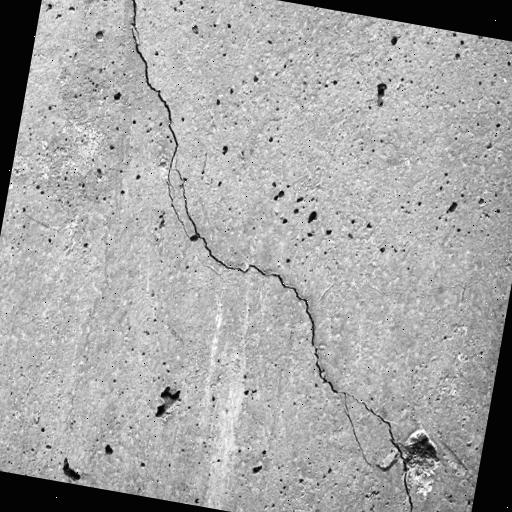spalling: (120, 0, 418, 512)
